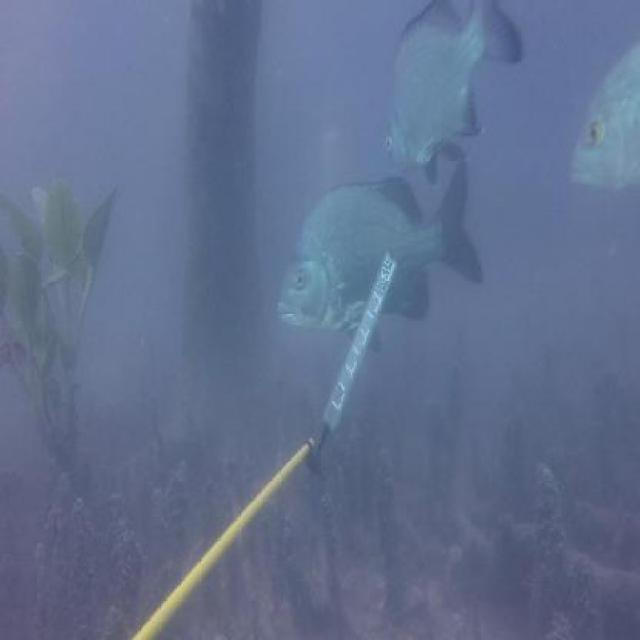Caranx: (566, 41, 640, 199)
acanthopagrus_palmaris: (276, 163, 487, 354), (382, 2, 526, 183)
